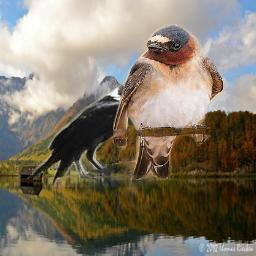Crow: (26, 76, 156, 187)
Swallow: (113, 24, 224, 180)
